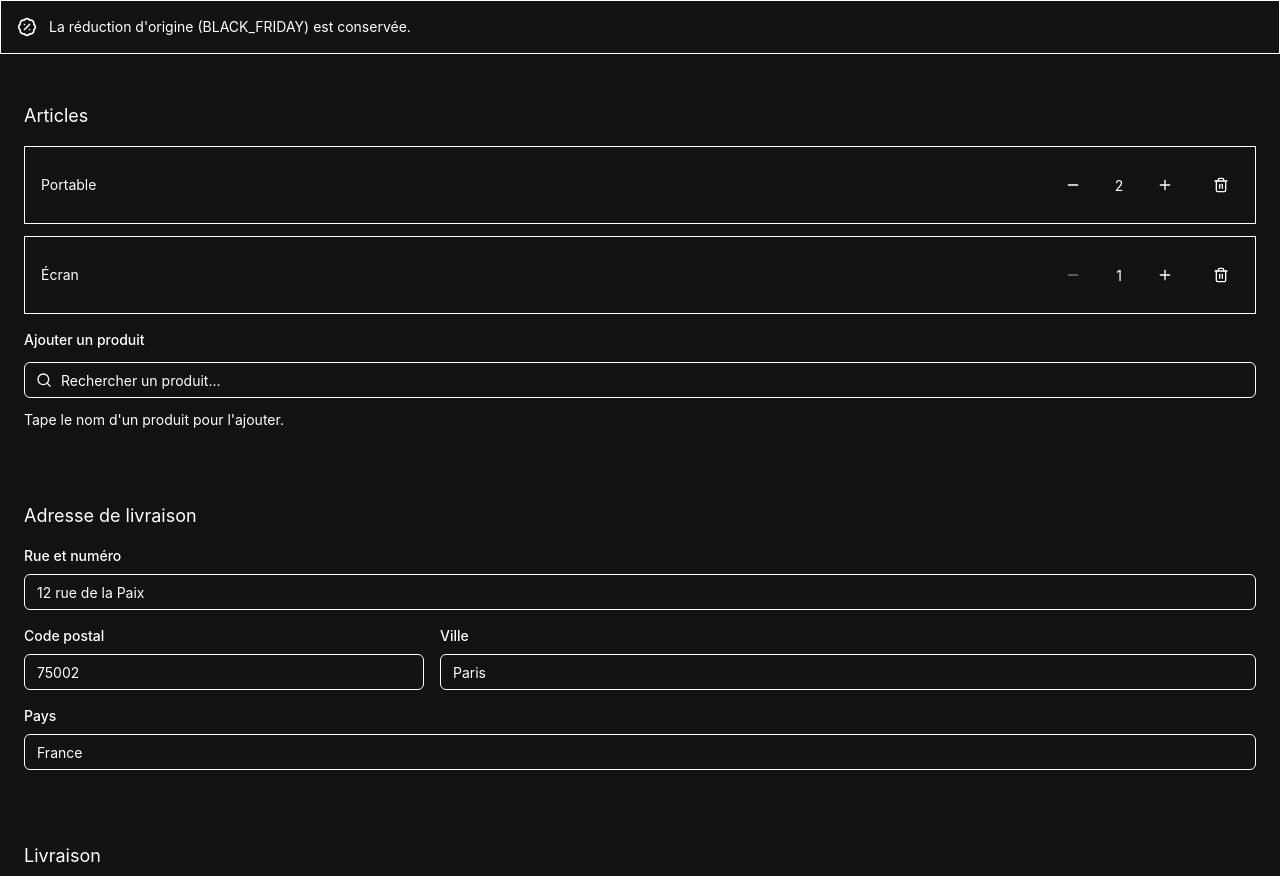
Test: ProductPicker › adds a product found by search, with the keyboard
In the search field labelled "Ajouter un produit": (640, 380) [24, 362, 1256, 398], type "souris"
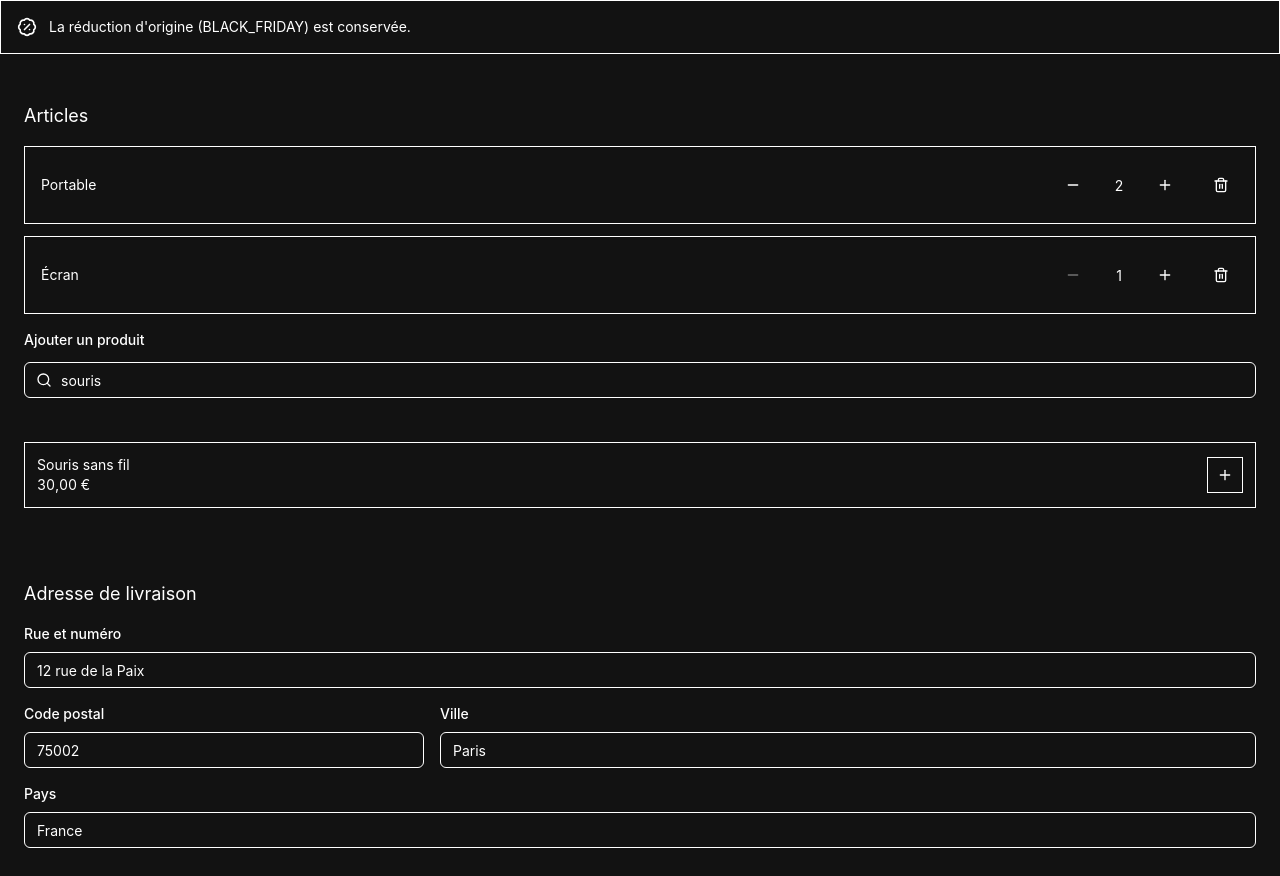
Press Enter
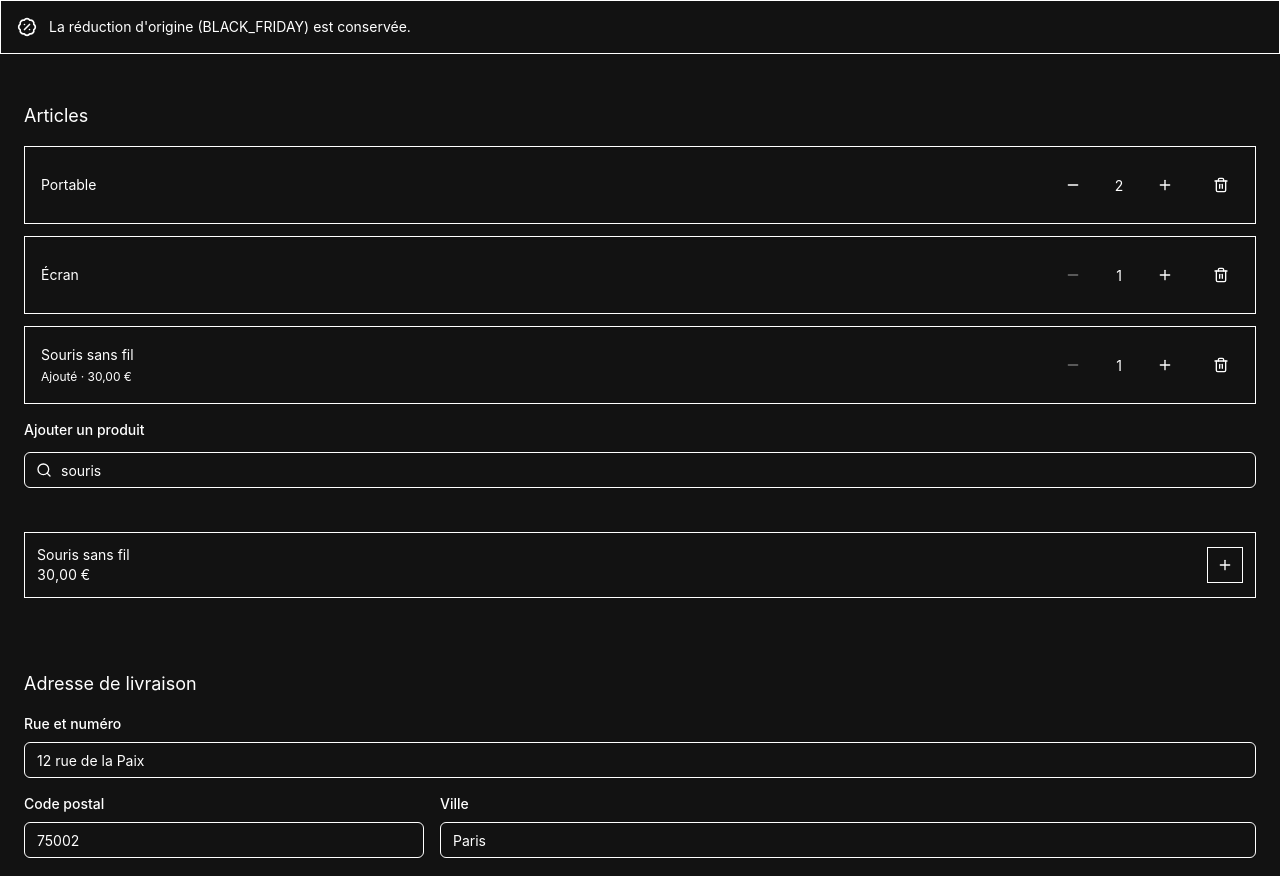
Expected: the button named "Retirer Souris sans fil" is enabled, [1203, 347, 1239, 383]
Expected: the text "Ajouté · 30,00 €" is shown, [41, 369, 132, 384]
